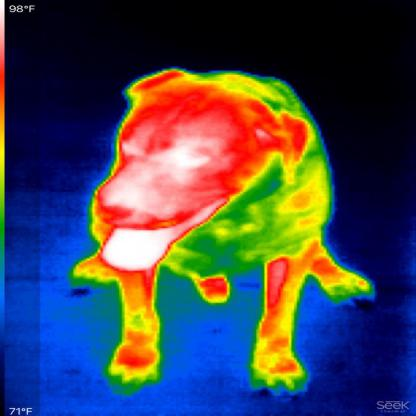dog: (69, 61, 380, 401)
